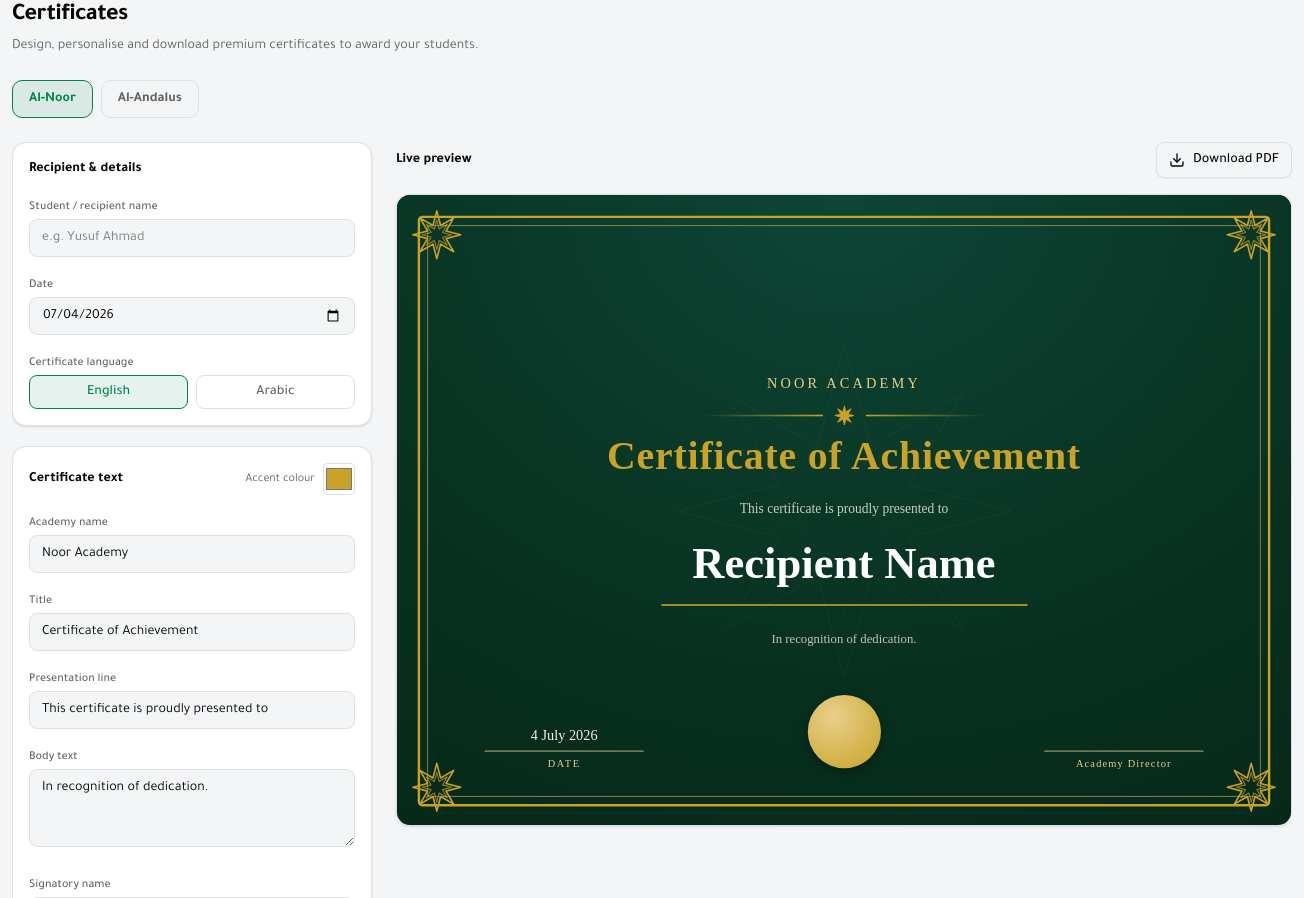
Test: CertificatesScreen › switches to the second template's content when its tab is clicked
The width and height of the screenshot is (1304, 898).
Check: the field labelled "Title" is shown, box [29,613,355,651]
Click the button "Al-Andalus".
click(150, 99)  # box [101,80,199,118]
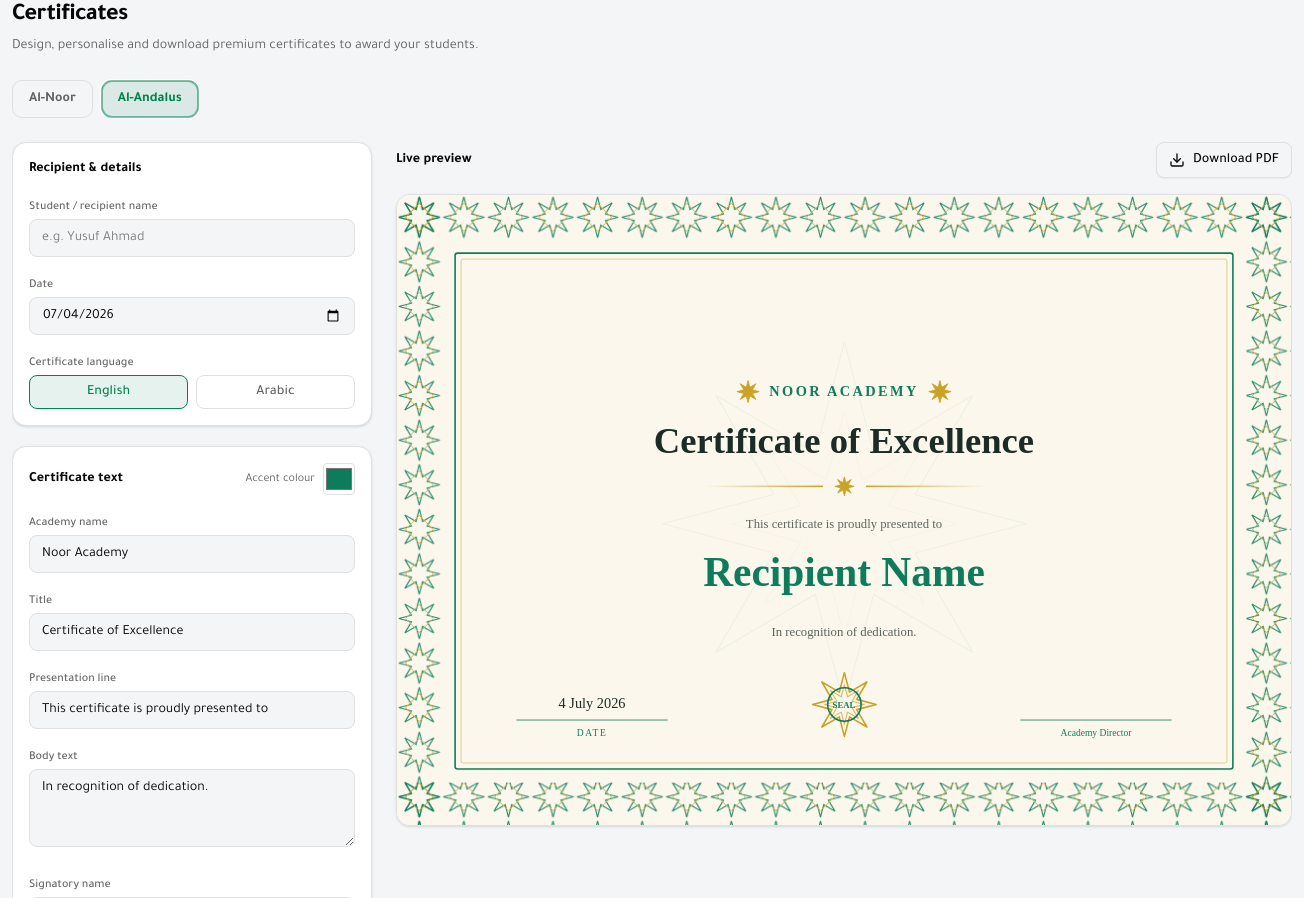
Check: the field labelled "Title" holds "Certificate of Excellence", box [29,613,355,651]
